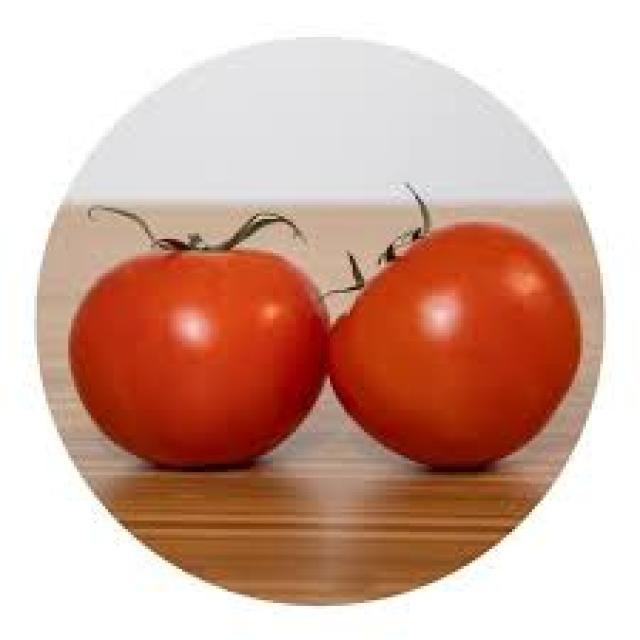Fresh_tomato: (88, 202, 317, 481), (339, 211, 550, 469)
